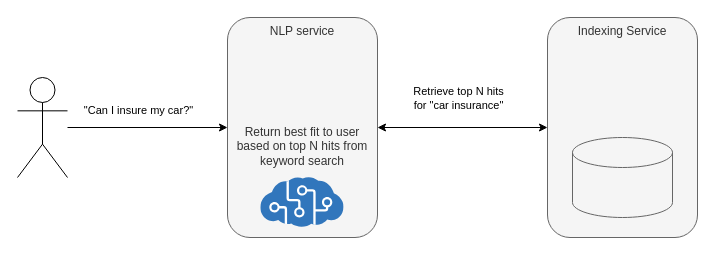
Image size: 715x255. Some labels were removed from this diagram. The centre of each missing label's shape, as x and y in pixels:
Lucene Index: the point at 622,177
User: the point at 42,127
